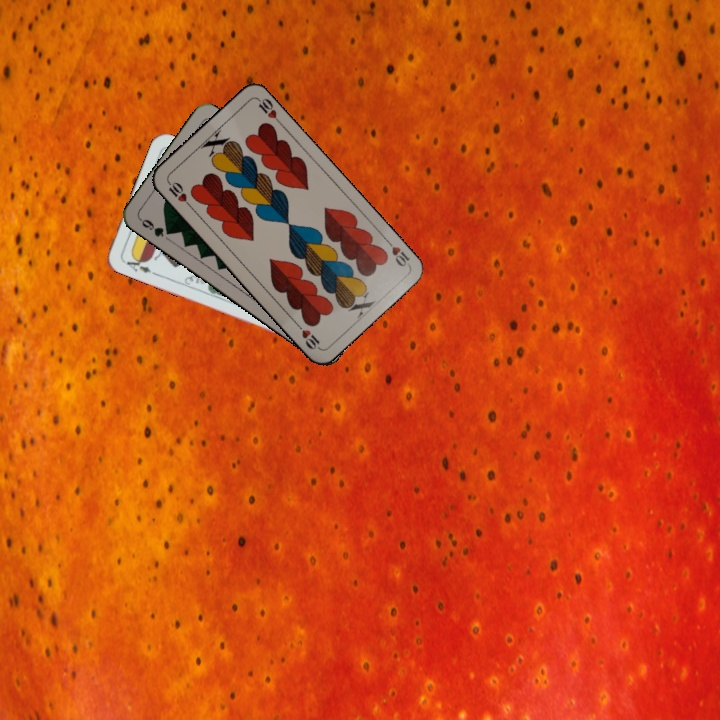EA: (119, 252, 154, 276)
G9: (136, 215, 175, 240)
H10: (164, 177, 195, 211), (381, 235, 412, 269)
